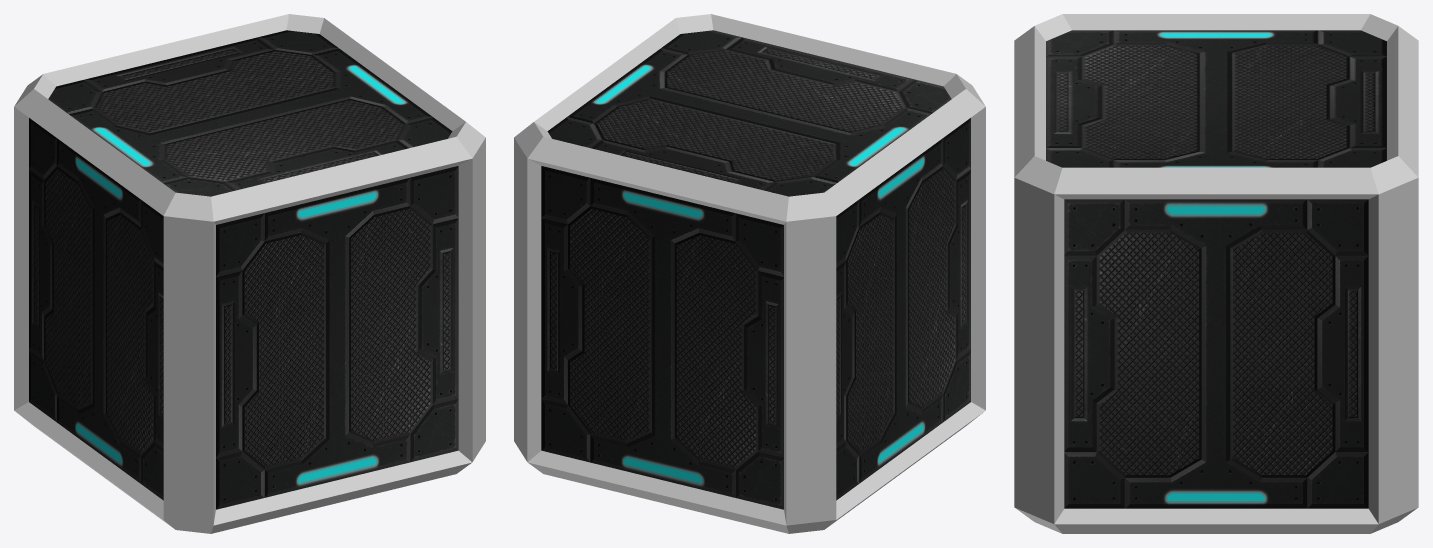
Rendered from storageCrate.fbx.
The picture shows the model from 3 angles, left to right: view 1: azimuth 30°, elevation 25°; view 2: azimuth 150°, elevation 25°; view 3: azimuth 270°, elevation 25°; orthographic projection. The views are drawn at different scales.
Parts seen in each view (by area): view 1: Cube; view 2: Cube; view 3: Cube.
Boxes of the visible parts, x1,y1,x2,y2 form: Cube: (14, 14, 485, 533); Cube: (514, 14, 985, 533); Cube: (1014, 14, 1418, 533).
Bounding box in the file's own units: 213 × 213 × 213.
